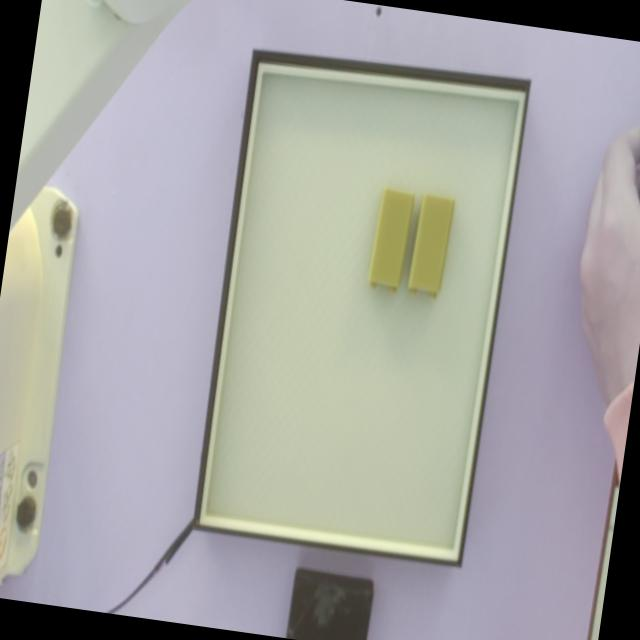bateria: (408, 195, 455, 300), (368, 190, 414, 295)
mesa: (192, 49, 530, 568)
